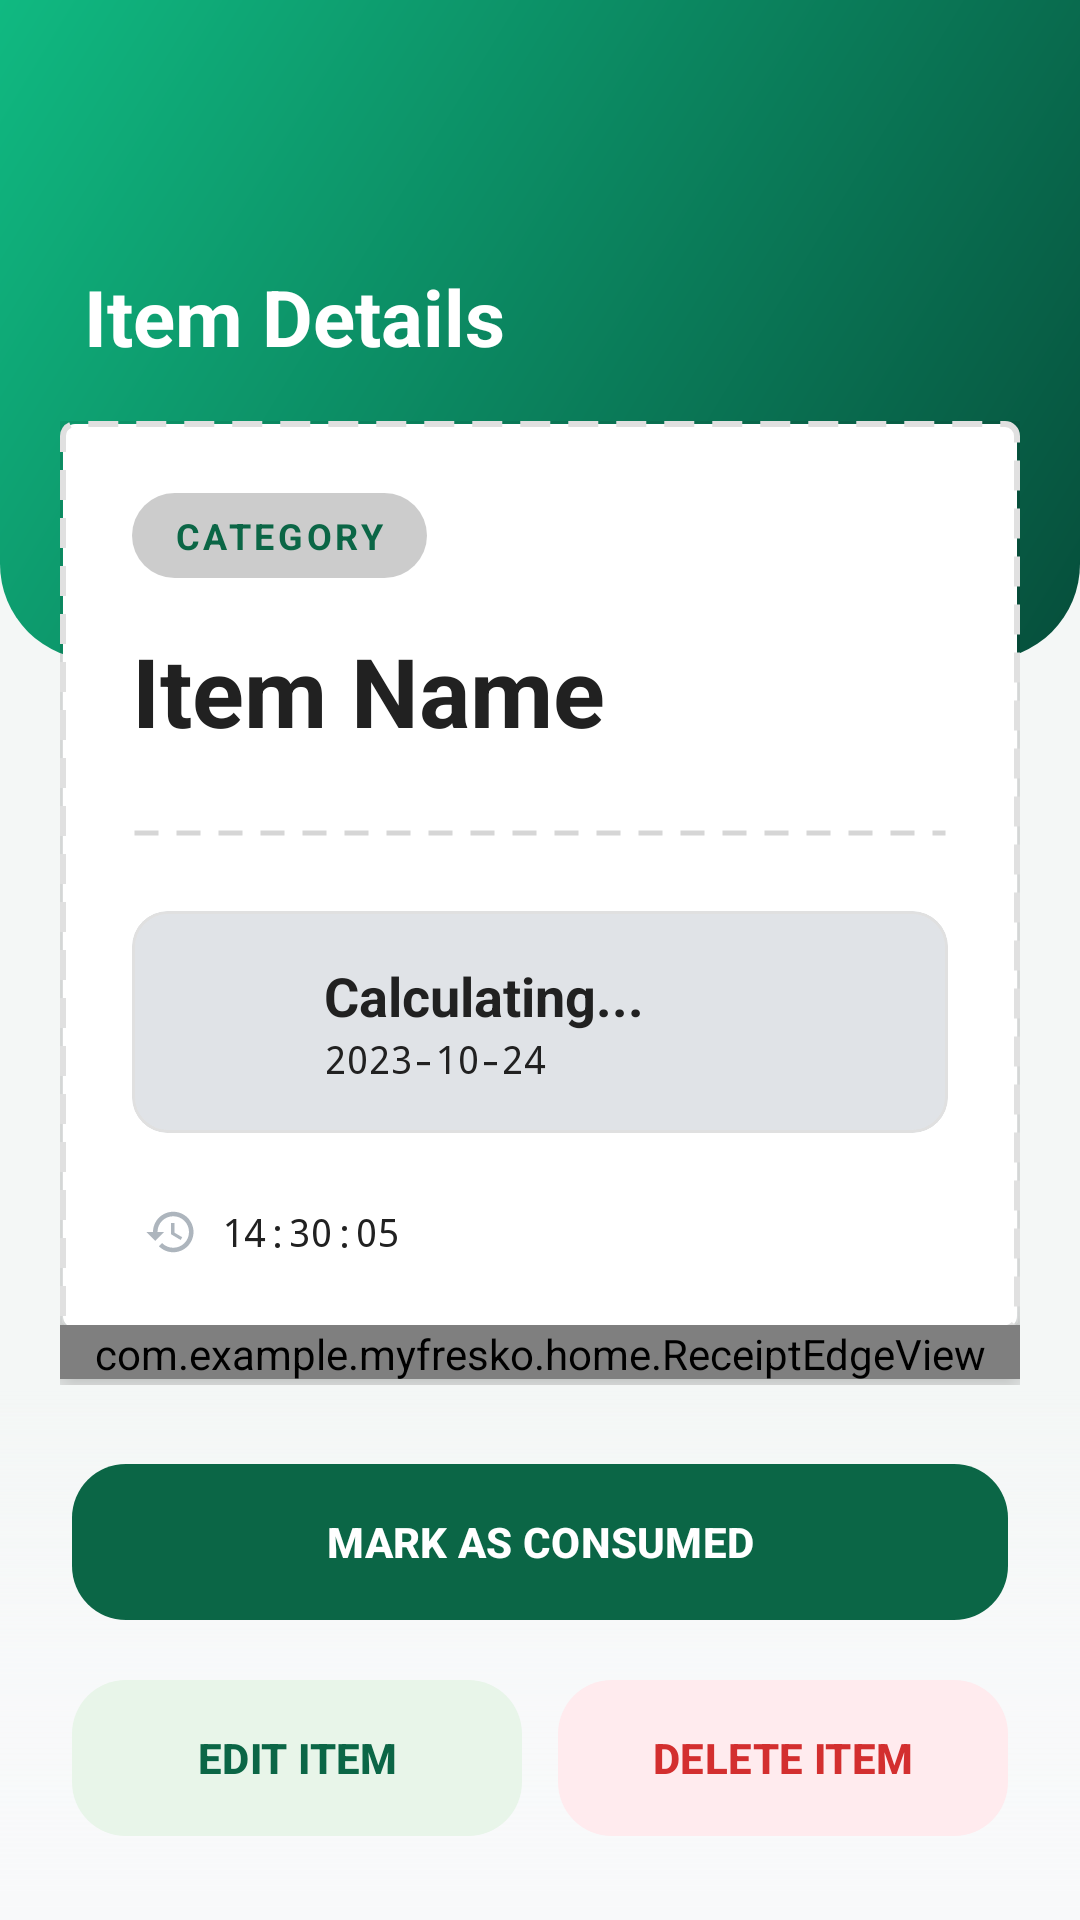

Icon bounding boxes for this 1080 × 1920 phone screenshot, format bbox(x1, y1, x2, y2):
history: bbox(147, 1212, 194, 1252)
